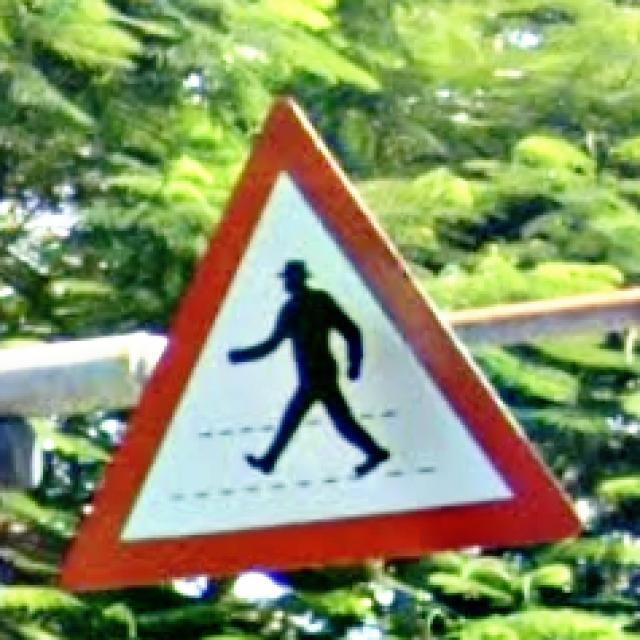pedestriancross: (59, 97, 586, 588)
